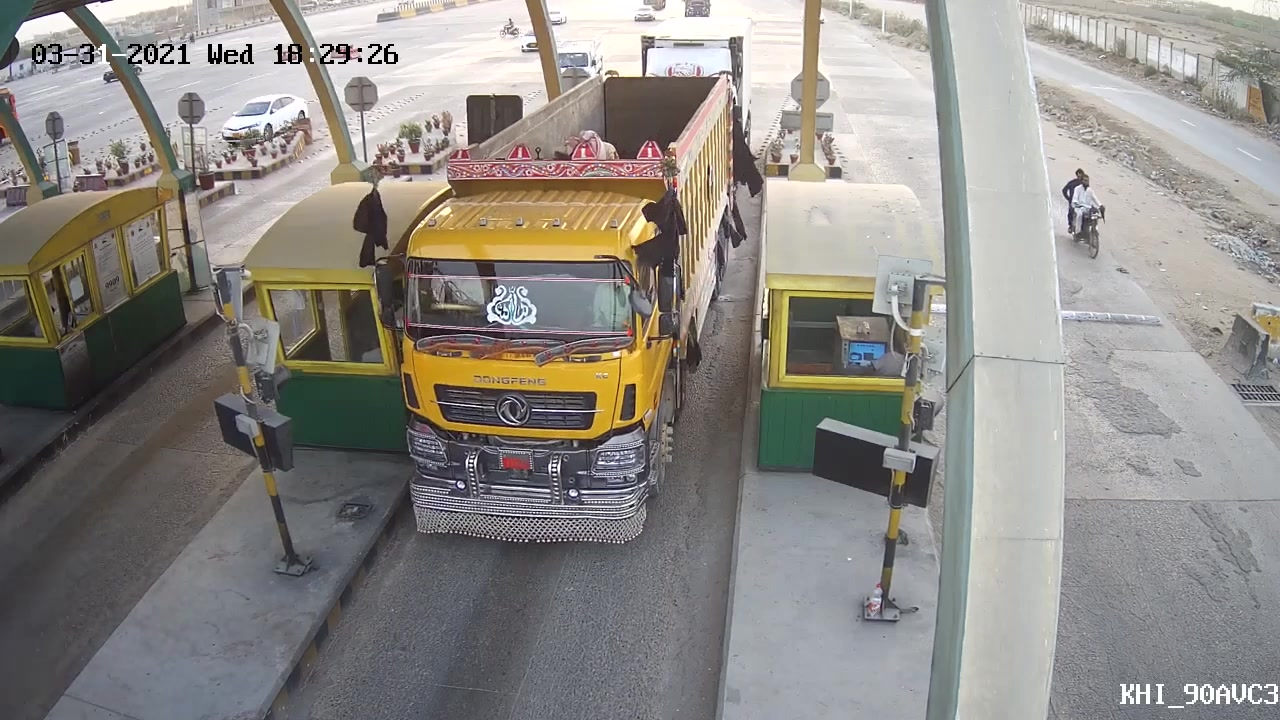F6: (395, 74, 739, 543)
